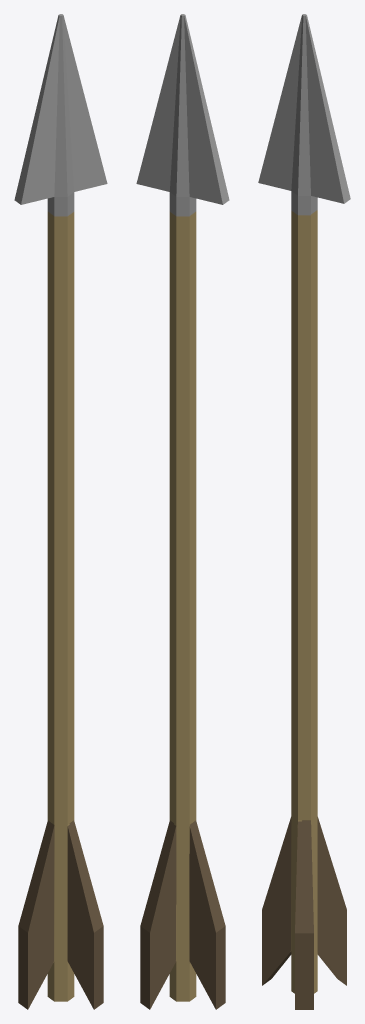
Rendered from Arrow001.fbx.
3 renders of one model, left to right at view 1: azimuth 30°, elevation 25°; view 2: azimuth 150°, elevation 25°; view 3: azimuth 330°, elevation 25°, orthographic.
Parts seen in each view (by area): view 1: SM_Arrow; view 2: SM_Arrow; view 3: SM_Arrow.
Boxes of the visible parts, x1=… form: SM_Arrow: x1=14, y1=14, x2=107, y2=1009; SM_Arrow: x1=136, y1=14, x2=229, y2=1009; SM_Arrow: x1=258, y1=14, x2=350, y2=1009.
Size of the model in its own units: 15.14 by 164 by 12.92.
